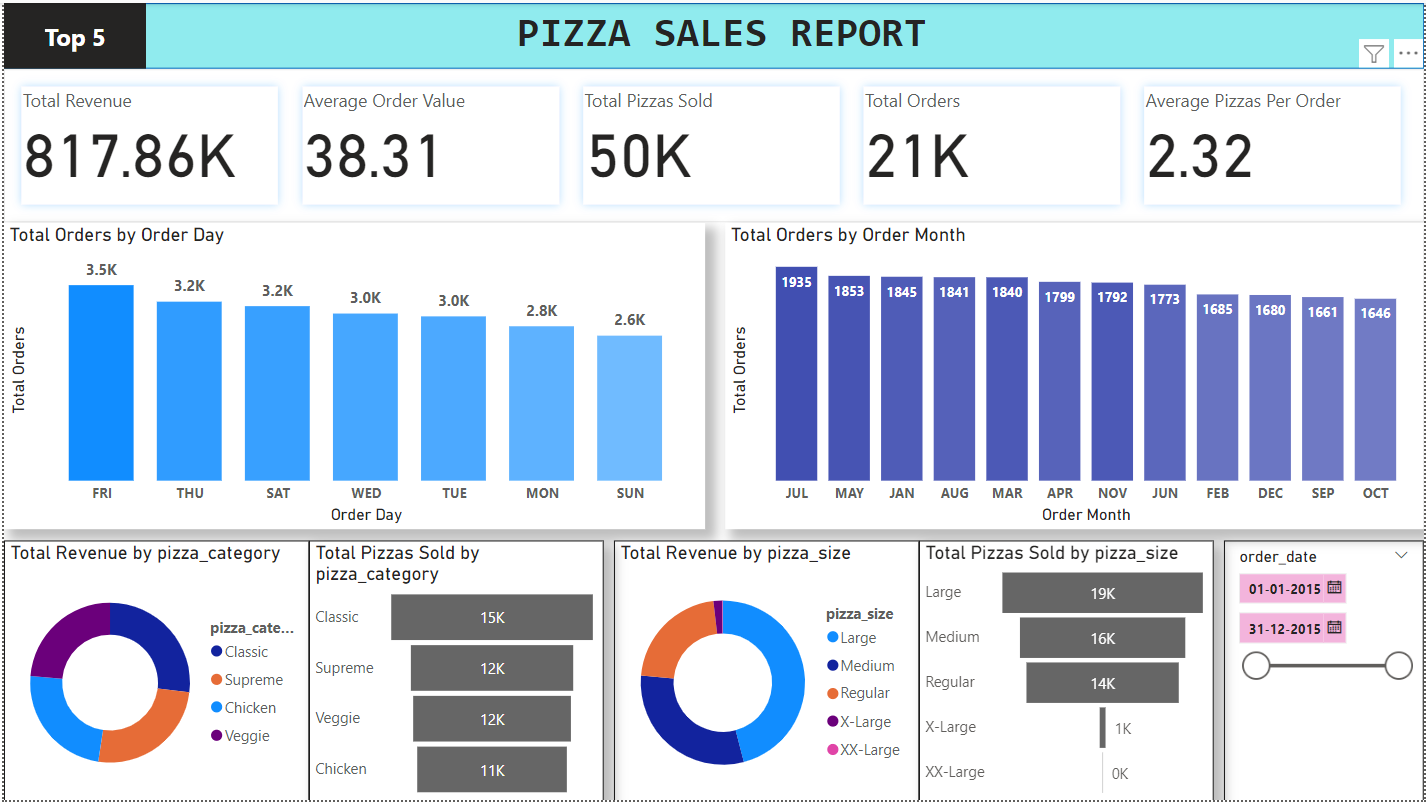

The dashboard page shown, as its layout file describes it:
{"tool":"powerbi","page":{"name":"Home","canvas":[1280,720],"ordinal":0},"visuals":[{"type":"shape","box":[0,0,1280.2,59.3],"z":0},{"type":"cardVisual","fields":{"Data":["pizza_sales pizza_sales_updated.Total Revenue","pizza_sales pizza_sales_updated.Average Order Value","pizza_sales pizza_sales_updated.Total Pizzas Sold","pizza_sales pizza_sales_updated.Total Orders","pizza_sales pizza_sales_updated.Average Pizzas Per Order"]},"box":[0,59.9,1279.9,138.1],"z":1000},{"type":"textbox","box":[457.2,0,387.5,59.9],"z":2000},{"type":"columnChart","fields":{"Y":["pizza_sales pizza_sales_updated.Total Orders"],"Category":["pizza_sales pizza_sales_updated.Order Day"]},"box":[0,198,632,276.3],"z":3000},{"type":"columnChart","fields":{"Category":["pizza_sales pizza_sales_updated.Order Month"],"Y":["pizza_sales pizza_sales_updated.Total Orders"]},"box":[650.3,198,629.5,276.3],"z":4000},{"type":"donutChart","fields":{"Category":["pizza_sales pizza_sales_updated.pizza_category"],"Y":["pizza_sales pizza_sales_updated.Total Revenue"]},"box":[0,484.1,275,235.9],"z":5000},{"type":"donutChart","fields":{"Category":["pizza_sales pizza_sales_updated.pizza_size"],"Y":["pizza_sales pizza_sales_updated.Total Revenue"]},"box":[550.1,484.1,275,235.9],"z":6000},{"type":"slicer","fields":{"Values":["pizza_sales pizza_sales_updated.order_date"]},"box":[1100.2,484.1,179.7,235.9],"z":7000},{"type":"funnel","fields":{"Category":["pizza_sales pizza_sales_updated.pizza_category"],"Y":["pizza_sales pizza_sales_updated.Total Pizzas Sold"]},"box":[275,484.1,265.3,235.9],"z":8000},{"type":"funnel","fields":{"Category":["pizza_sales pizza_sales_updated.pizza_size"],"Y":["pizza_sales pizza_sales_updated.Total Pizzas Sold"]},"box":[825.1,484.1,265.3,235.9],"z":9000},{"type":"pageNavigator","box":[0,0,128.4,59.9],"z":10000}]}

Visuals, with their boxes in screenshot pixels (x1, y1, x2, y2), scaled from the page's 1280x720 canvas onto the 1426x802 screenshot:
shape: l=0, t=0, r=1425, b=66
cardVisual - pizza_sales pizza_sales_updated.Total Revenue x pizza_sales pizza_sales_updated.Average Order Value: l=0, t=67, r=1425, b=221
textbox: l=509, t=0, r=941, b=67
columnChart - pizza_sales pizza_sales_updated.Total Orders x pizza_sales pizza_sales_updated.Order Day: l=0, t=221, r=704, b=528
columnChart - pizza_sales pizza_sales_updated.Order Month x pizza_sales pizza_sales_updated.Total Orders: l=724, t=221, r=1425, b=528
donutChart - pizza_sales pizza_sales_updated.pizza_category x pizza_sales pizza_sales_updated.Total Revenue: l=0, t=539, r=306, b=801
donutChart - pizza_sales pizza_sales_updated.pizza_size x pizza_sales pizza_sales_updated.Total Revenue: l=613, t=539, r=919, b=801
slicer - pizza_sales pizza_sales_updated.order_date: l=1226, t=539, r=1425, b=801
funnel - pizza_sales pizza_sales_updated.pizza_category x pizza_sales pizza_sales_updated.Total Pizzas Sold: l=306, t=539, r=602, b=801
funnel - pizza_sales pizza_sales_updated.pizza_size x pizza_sales pizza_sales_updated.Total Pizzas Sold: l=919, t=539, r=1215, b=801
pageNavigator: l=0, t=0, r=143, b=67
